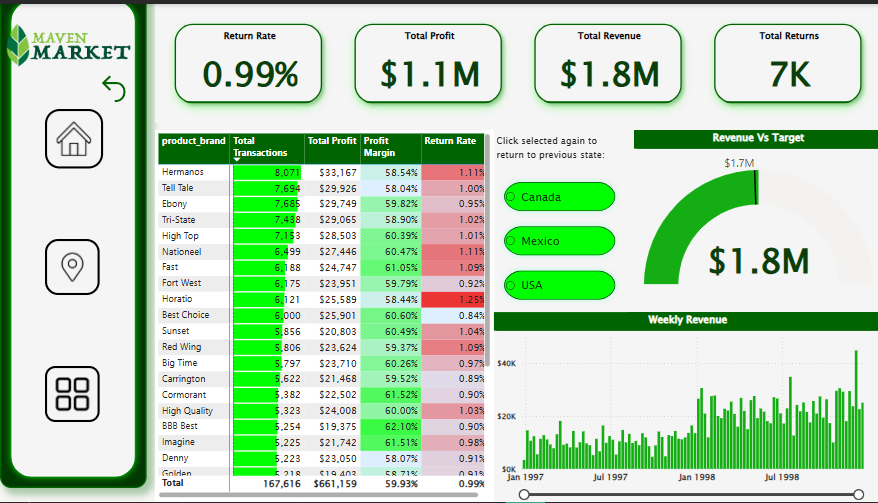

What the dashboard file says about the page in this screenshot:
{"tool":"powerbi","page":{"name":"Topline Performance","canvas":[1280,720],"ordinal":0},"visuals":[{"type":"group","id":"g1","title":"Activity Pane","box":[3,-20.8,211.6,720],"z":0},{"type":"shape","title":"Activity Pane","box":[3,-20.8,211.6,720],"z":0,"group":"g1"},{"type":"actionButton","box":[68.4,152,83.5,85.7],"z":0,"group":"g2"},{"type":"image","title":"Maven market logo","box":[3,-20.8,196.6,159.1],"z":1000,"group":"g1"},{"type":"cardVisual","fields":{"Data":["_MEASURE TABLE.Return Rate","_MEASURE TABLE.Total Profit","_MEASURE TABLE.Total Revenue","_MEASURE TABLE.Total Returns"]},"box":[227,0,1054,172],"z":1000},{"type":"actionButton","box":[67.9,339.9,79.3,80.9],"z":1000,"group":"g2"},{"type":"gauge","title":"Revenue Vs Target","fields":{"Y":["_MEASURE TABLE.Total Revenue"],"TargetValue":["_MEASURE TABLE.Revenue Target"]},"box":[919.5,182.2,360,228.4],"z":2000},{"type":"actionButton","box":[67.9,523.4,79.3,80.9],"z":2000,"group":"g2"},{"type":"clusteredColumnChart","title":"Weekly Revenue","fields":{"Category":["Calendar.Start of Week"],"Y":["_MEASURE TABLE.Total Revenue"]},"box":[716.1,445.2,563.9,274.7],"z":3000},{"type":"listSlicer","fields":{"Values":["Stores.store_country"]},"box":[715.1,241.3,193.1,203.8],"z":4000},{"type":"textbox","box":[715.1,182.3,193.1,59],"z":5000},{"type":"pivotTable","fields":{"Rows":["Products.product_brand"],"Values":["_MEASURE TABLE.Total Transactions","_MEASURE TABLE.Total Profit","_MEASURE TABLE.Profit Margin %","_MEASURE TABLE.Return Rate"]},"box":[226.5,182.6,489.9,537.3],"z":6000},{"type":"actionButton","box":[134.1,85.8,66.1,73.3],"z":7000},{"type":"group","id":"g2","title":"ICONS","box":[67.9,152,84,452.3],"z":8000}]}

Visuals, with their boxes in screenshot pixels (x1, y1, x2, y2), scaled from the page's 1280x720 canvas onto the 878x503 screenshot:
"Activity Pane" group: x1=2, y1=0, x2=147, y2=488
"Activity Pane" shape: x1=2, y1=0, x2=147, y2=488
actionButton: x1=47, y1=106, x2=104, y2=166
"Maven market logo" image: x1=2, y1=0, x2=137, y2=97
cardVisual - _MEASURE TABLE.Return Rate x _MEASURE TABLE.Total Profit: x1=156, y1=0, x2=877, y2=120
actionButton: x1=47, y1=237, x2=101, y2=294
"Revenue Vs Target" gauge: x1=631, y1=127, x2=877, y2=287
actionButton: x1=47, y1=366, x2=101, y2=422
"Weekly Revenue" clusteredColumnChart: x1=491, y1=311, x2=877, y2=502
listSlicer - Stores.store_country: x1=491, y1=169, x2=623, y2=311
textbox: x1=491, y1=127, x2=623, y2=169
pivotTable - Products.product_brand x _MEASURE TABLE.Total Transactions: x1=155, y1=128, x2=491, y2=502
actionButton: x1=92, y1=60, x2=137, y2=111
"ICONS" group: x1=47, y1=106, x2=104, y2=422
